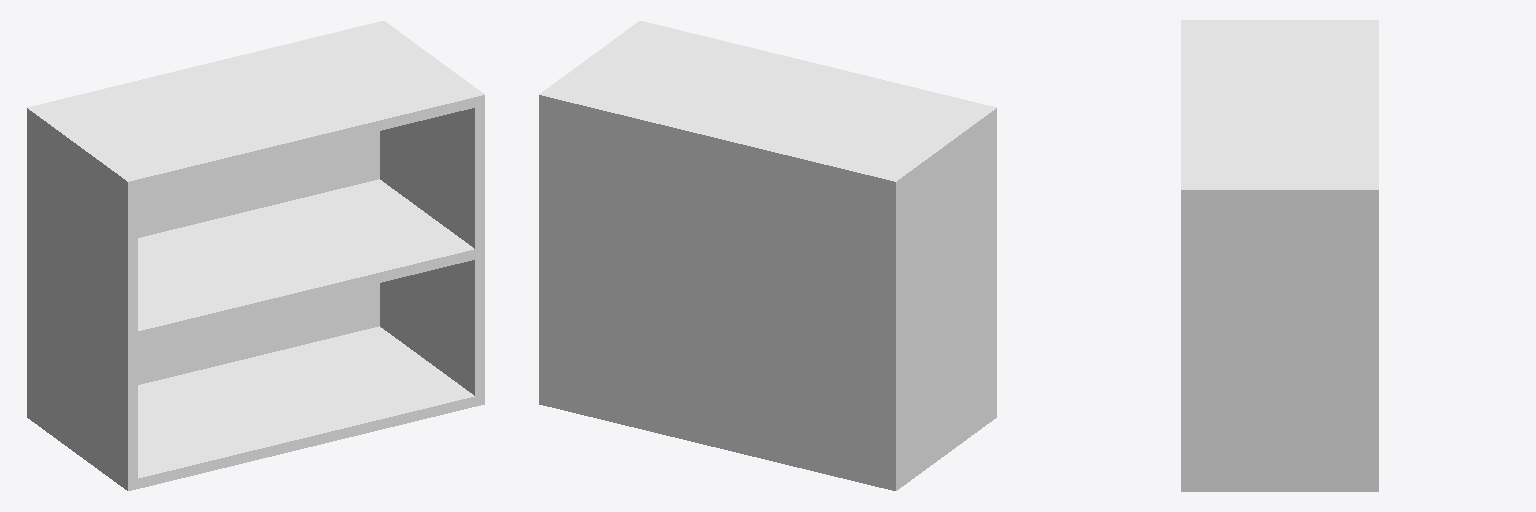
robot.urdf — two_shelves:
<?xml version=".0"?>
<robot name="two_shelves">
  <link name="base"></link>
  <!-- 0.61 x 0.30 x 0.505, 0.017 thick, from bottom up: 0.257, 0.262 -->

  <link name="shelf1">
    <visual>
      <material name="white">
        <color rgba="1 1 1 1"/>
      </material>
      <geometry>
        <box size="0.61 0.30 0.017" />
      </geometry>
    </visual>
    <collision>
      <geometry>
        <box size="0.61 0.30 0.017" />
      </geometry>
    </collision>
  </link>
  <joint name="base_to_shelf1" type="fixed">
    <parent link="base"/>
    <child link="shelf1"/>
    <origin xyz="0 0 0.0085"/>
  </joint>

  <link name="shelf2">
    <visual>
      <material name="white">
        <color rgba="1 1 1 1"/>
      </material>
      <geometry>
        <box size="0.61 0.30 0.017" />
      </geometry>
    </visual>
    <collision>
      <geometry>
        <box size="0.61 0.30 0.017" />
      </geometry>
    </collision>
  </link>
  <joint name="base_to_shelf2" type="fixed">
    <parent link="base"/>
    <child link="shelf2"/>
    <origin xyz="0 0 0.2485"/>
  </joint>

  <link name="shelf3">
    <visual>
      <material name="white">
        <color rgba="1 1 1 1"/>
      </material>
      <geometry>
        <box size="0.61 0.30 0.017" />
      </geometry>
    </visual>
    <collision>
      <geometry>
        <box size="0.61 0.30 0.017" />
      </geometry>
    </collision>
  </link>
  <joint name="base_to_shelf3" type="fixed">
    <parent link="base"/>
    <child link="shelf3"/>
    <!--origin xyz="0 0 0.4935"/-->
    <origin xyz="0 0 0.4965"/>
  </joint>

  <link name="left_wall">
    <visual>
      <material name="white">
        <color rgba="1 1 1 1"/>
      </material>
      <geometry>
        <box size="0.017 0.30 0.505" />
      </geometry>
    </visual>
    <collision>
      <geometry>
        <box size="0.017 0.30 0.505" />
      </geometry>
    </collision>
  </link>
  <joint name="base_to_left_wall" type="fixed">
    <parent link="base"/>
    <child link="left_wall"/>
    <origin xyz="-0.2965 0 0.2525"/>
  </joint>

  <link name="right_wall">
    <visual>
      <material name="white">
        <color rgba="1 1 1 1"/>
      </material>
      <geometry>
        <box size="0.017 0.30 0.505" />
      </geometry>
    </visual>
    <collision>
      <geometry>
        <box size="0.017 0.30 0.505" />
      </geometry>
    </collision>
  </link>
  <joint name="base_to_right_wall" type="fixed">
    <parent link="base"/>
    <child link="right_wall"/>
    <origin xyz="0.2965 0 0.2525"/>
  </joint>

  <link name="back_wall">
    <visual>
      <material name="white">
        <color rgba="1 1 1 1"/>
      </material>
      <geometry>
        <box size="0.61 0.017 0.505" />
      </geometry>
    </visual>
    <collision>
      <geometry>
        <box size="0.61 0.017 0.505" />
      </geometry>
    </collision>
  </link>
  <joint name="base_to_back_wall" type="fixed">
    <parent link="base"/>
    <child link="back_wall"/>
    <origin xyz="0 0.1415 0.2525"/>
  </joint>

</robot>

--- What the picture shows (computed from the rendered views, not written in the file) ---
Views: 3 orthographic renders of the robot side by side, from view 1: azimuth 30°, elevation 25°; view 2: azimuth 150°, elevation 25°; view 3: azimuth 270°, elevation 25°.
Model two_shelves with 7 links and 6 joints (6 fixed), rooted at base, posed every joint at zero.
Visible links, largest first — view 1: shelf3, left_wall, shelf1, shelf2, back_wall, right_wall; view 2: back_wall, shelf3, left_wall, right_wall, shelf1, shelf2; view 3: right_wall, shelf3, shelf2, back_wall, shelf1.
Boxes of the visible links, left/top/right/bottom form: shelf3: left=27, top=21, right=484, bottom=191; left_wall: left=27, top=108, right=137, bottom=490; shelf1: left=27, top=326, right=484, bottom=490; shelf2: left=33, top=179, right=484, bottom=343; back_wall: left=27, top=21, right=381, bottom=419; right_wall: left=375, top=21, right=484, bottom=406; back_wall: left=539, top=91, right=901, bottom=489; shelf3: left=539, top=21, right=996, bottom=191; left_wall: left=886, top=107, right=996, bottom=490; right_wall: left=539, top=21, right=647, bottom=406; shelf1: left=539, top=394, right=996, bottom=490; shelf2: left=539, top=247, right=995, bottom=342; right_wall: left=1181, top=187, right=1378, bottom=491; shelf3: left=1181, top=20, right=1378, bottom=199; shelf2: left=1181, top=338, right=1378, bottom=347; back_wall: left=1368, top=20, right=1378, bottom=491; shelf1: left=1181, top=481, right=1378, bottom=491.
Bounding box of the posed robot: 0.61 × 0.3 × 0.505 m (x, y, z).
Geometry: primitives only (box / cylinder / sphere), no mesh files.